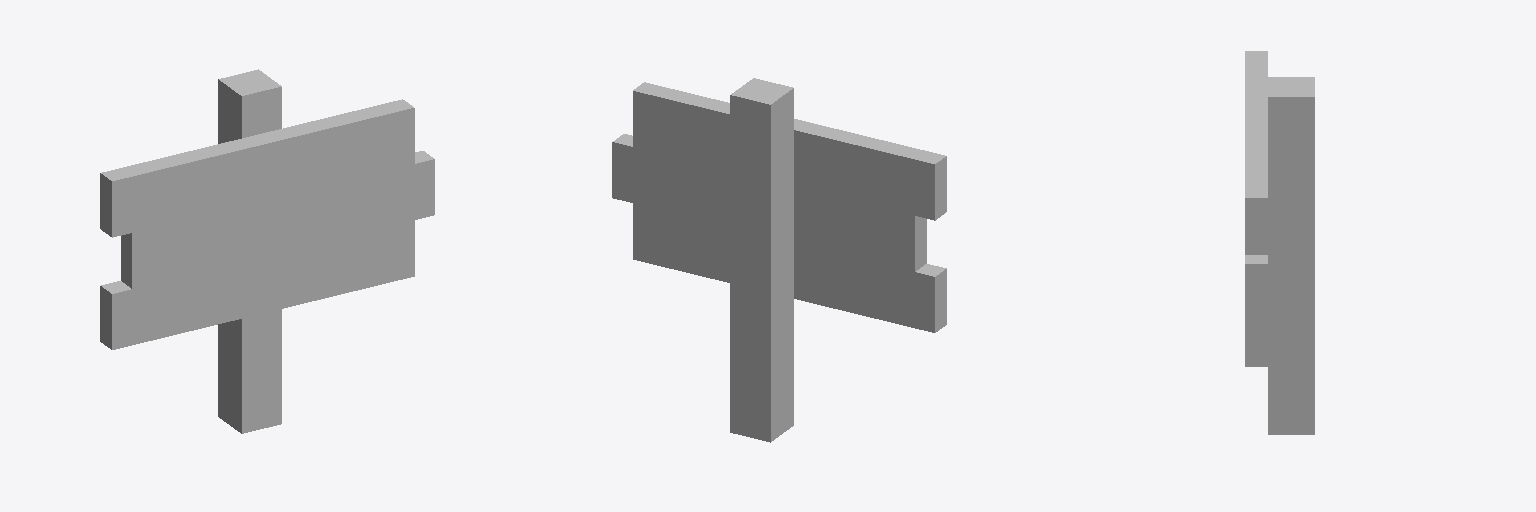
Rendered from sign.obj.
3 renders of one model, left to right at view 1: azimuth 30°, elevation 25°; view 2: azimuth 150°, elevation 25°; view 3: azimuth 270°, elevation 25°, orthographic.
Visible parts, largest first — view 1: Sign_Cube.001; view 2: Sign_Cube.001; view 3: Sign_Cube.001.
Part boxes in pixels (left/top/right/bottom): Sign_Cube.001: left=100, top=69, right=434, bottom=433; Sign_Cube.001: left=612, top=78, right=946, bottom=442; Sign_Cube.001: left=1245, top=51, right=1314, bottom=434.
Bounding box in the file's own units: 2 × 2 × 0.375.